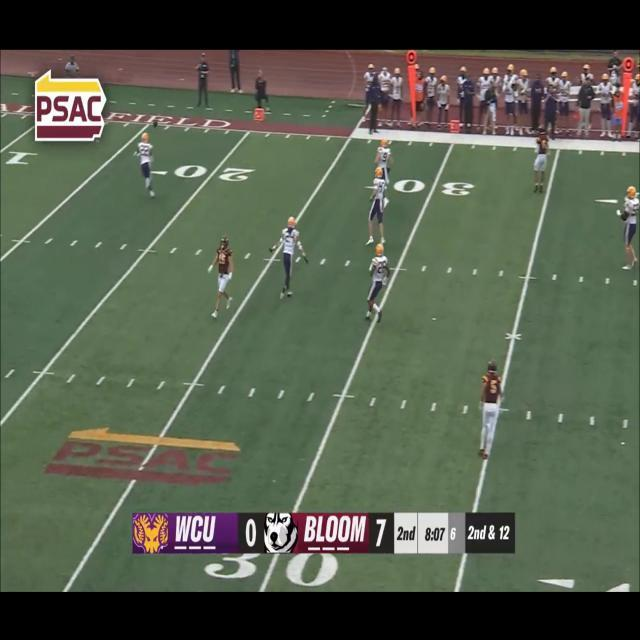football: (150, 117, 162, 130)
